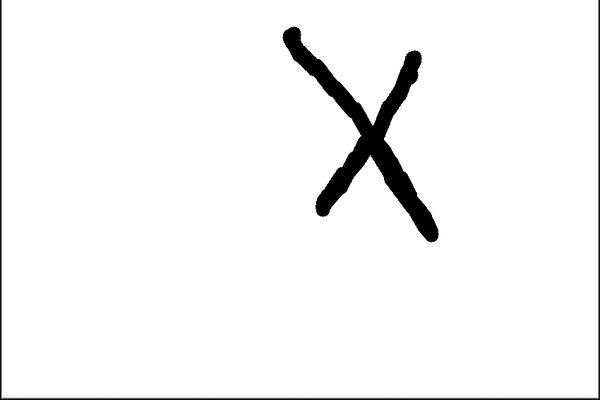X: (256, 15, 449, 256)
